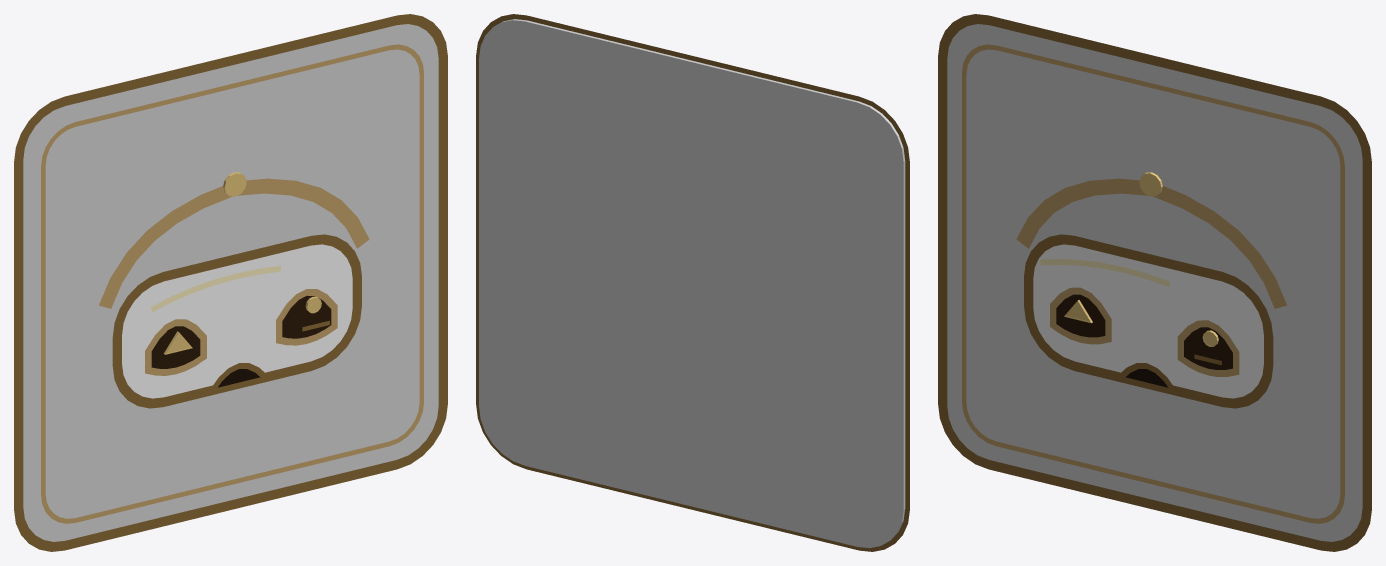
File: obj-shlem-quest.glb
3 views of the same model, side by side, from view 1: azimuth 30°, elevation 25°; view 2: azimuth 150°, elevation 25°; view 3: azimuth 330°, elevation 25° (orthographic).
Visible parts, largest first — view 1: obj-shlem-quest; view 2: obj-shlem-quest; view 3: obj-shlem-quest.
Boxes of the visible parts, box(x1,y1,x2,y2) form: obj-shlem-quest: box(14, 14, 447, 551); obj-shlem-quest: box(476, 14, 909, 551); obj-shlem-quest: box(938, 14, 1371, 551).
Bounding box in the file's own units: 0.3917 × 0.3917 × 0.0301.
